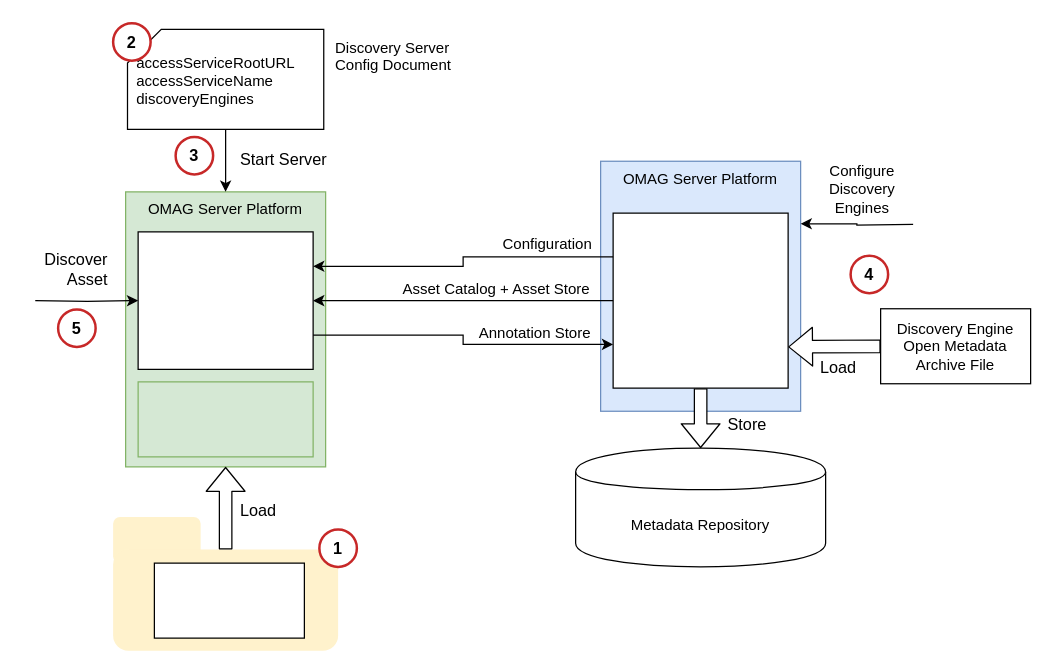
Some shapes in this 1053 by 671 pixel diagram are drawn without their labels. Each missing label, with the centre of its shape:
".../lib" goes at pixel 156 539.
"Discovery Server" goes at pixel 225 300.
"Discovery Service Java Archive (JAR) file" goes at pixel 228 600.
"Discovery Services Java Classes" goes at pixel 225 419.
"Metadata Server" goes at pixel 700 300.
